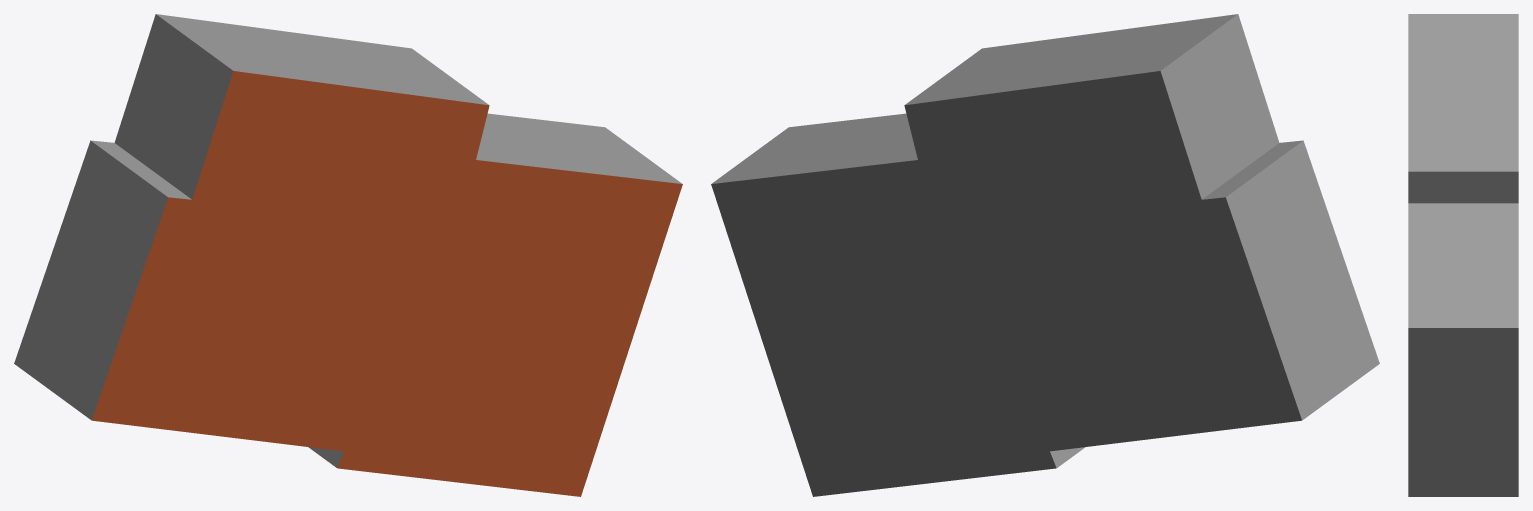
Rendered from construction_5092_assumed_A_Casa_h6m.obj.
3 renders of one model, left to right at view 1: azimuth 30°, elevation 25°; view 2: azimuth 150°, elevation 25°; view 3: azimuth 270°, elevation 25°, orthographic. The views are drawn at different scales.
Parts seen in each view (by area): view 1: construction_5092_assumed_A_Casa; view 2: construction_5092_assumed_A_Casa; view 3: construction_5092_assumed_A_Casa.
Part boxes in pixels (x1,y1,x2,y2): construction_5092_assumed_A_Casa: [14, 14, 682, 496]; construction_5092_assumed_A_Casa: [711, 14, 1379, 496]; construction_5092_assumed_A_Casa: [1408, 14, 1518, 496].
Bounding box in the file's own units: 26.34 × 21.75 × 6.
